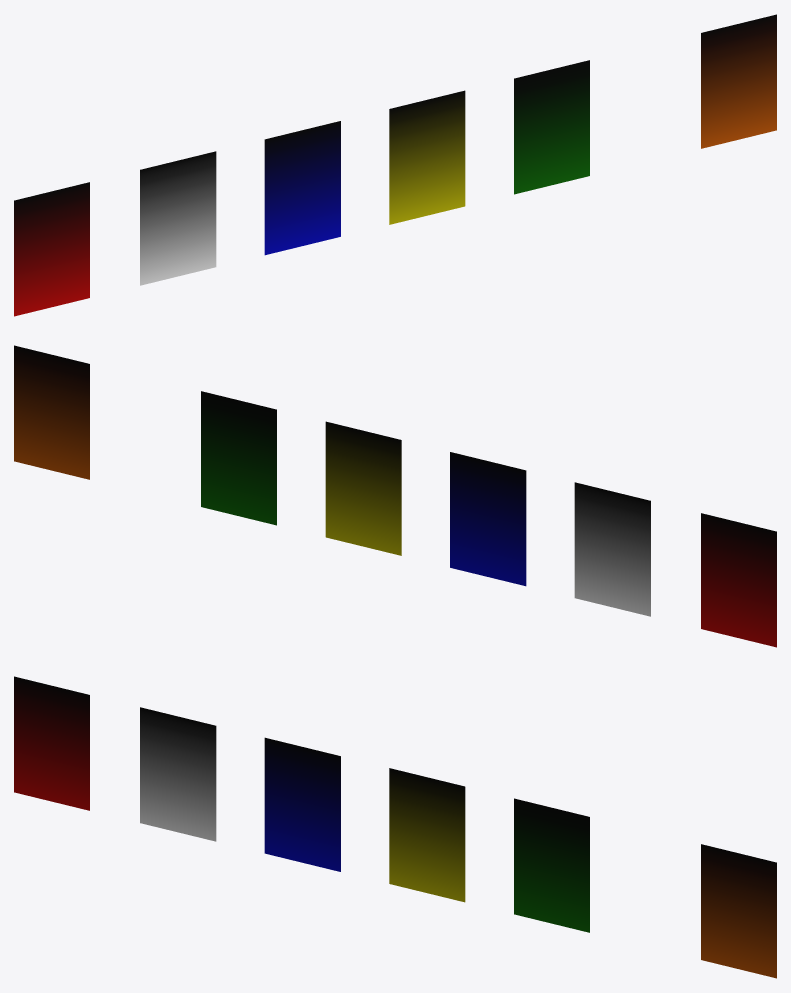
Rendered from Bandeiras.fbx.
The picture shows the model from 3 angles, top to bottom: view 1: azimuth 30°, elevation 25°; view 2: azimuth 150°, elevation 25°; view 3: azimuth 330°, elevation 25°; orthographic projection.
Visible parts, largest first — view 1: bandeira.002, bandeira.004, bandeira.003, bandeira.005, bandeira.001, bandeira; view 2: bandeira.002, bandeira.004, bandeira.003, bandeira.005, bandeira.001, bandeira; view 3: bandeira.002, bandeira.004, bandeira.003, bandeira.005, bandeira.001, bandeira.
Part boxes in pixels (x1,y1,x2,y2): bandeira.002: (140,151,216,285); bandeira.004: (389,90,465,224); bandeira.003: (264,121,340,255); bandeira.005: (514,60,589,194); bandeira.001: (14,182,89,316); bandeira: (701,14,776,148); bandeira.002: (574,482,650,616); bandeira.004: (325,421,401,555); bandeira.003: (450,452,526,586); bandeira.005: (201,391,276,525); bandeira.001: (701,513,776,647); bandeira: (14,345,89,479); bandeira.002: (140,707,216,841); bandeira.004: (389,768,465,902); bandeira.003: (264,737,340,871); bandeira.005: (514,798,589,932); bandeira.001: (14,676,89,810); bandeira: (701,844,776,978).
Size of the model in its own units: 12.25 by 1.78 by 1.76e-06.
